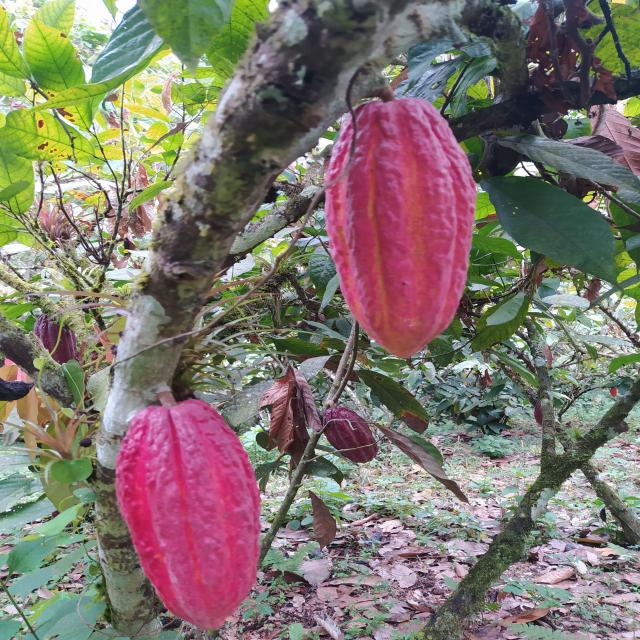Sana: (322, 97, 478, 358), (112, 398, 261, 626), (322, 407, 377, 463), (34, 311, 77, 368)
